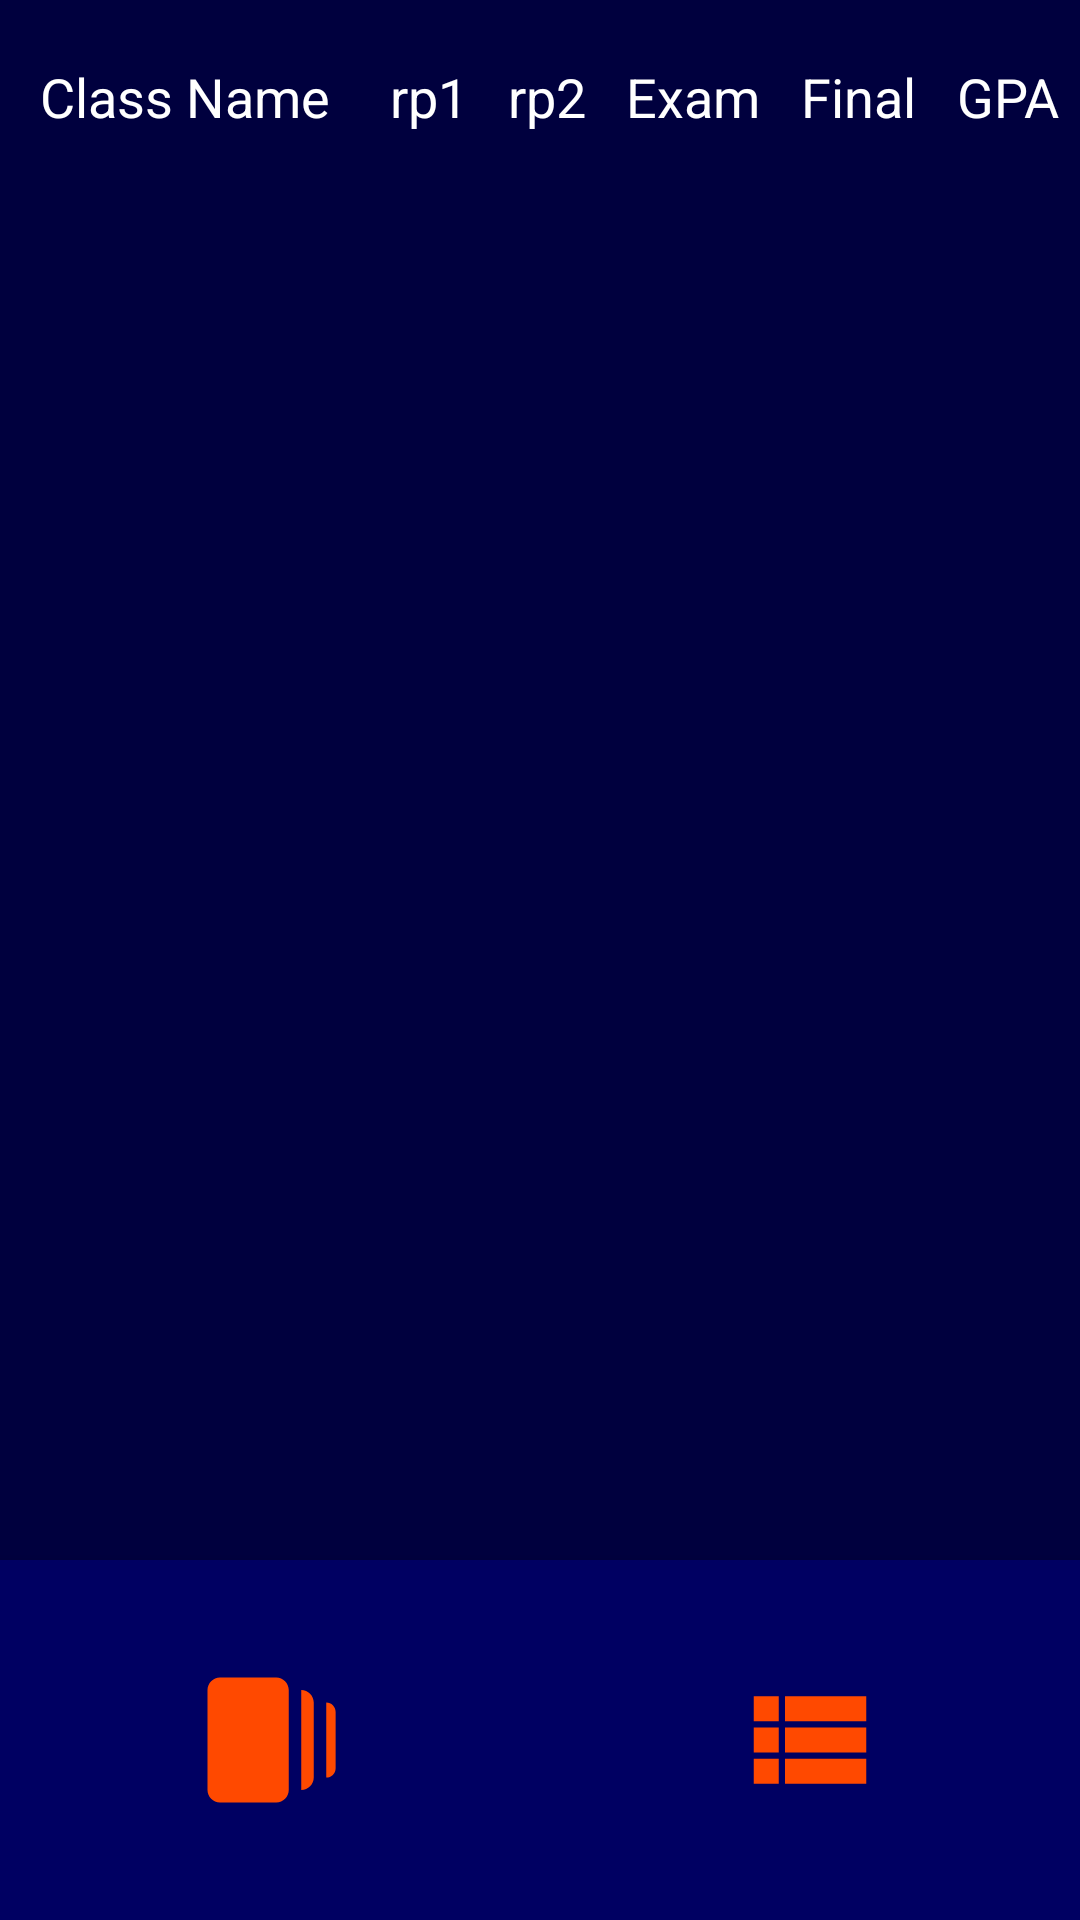

Icons on this 1080px×1920px Android screen, each with the point to tap as (x,y):
view list: (810,1740)
web stories: (271,1740)
